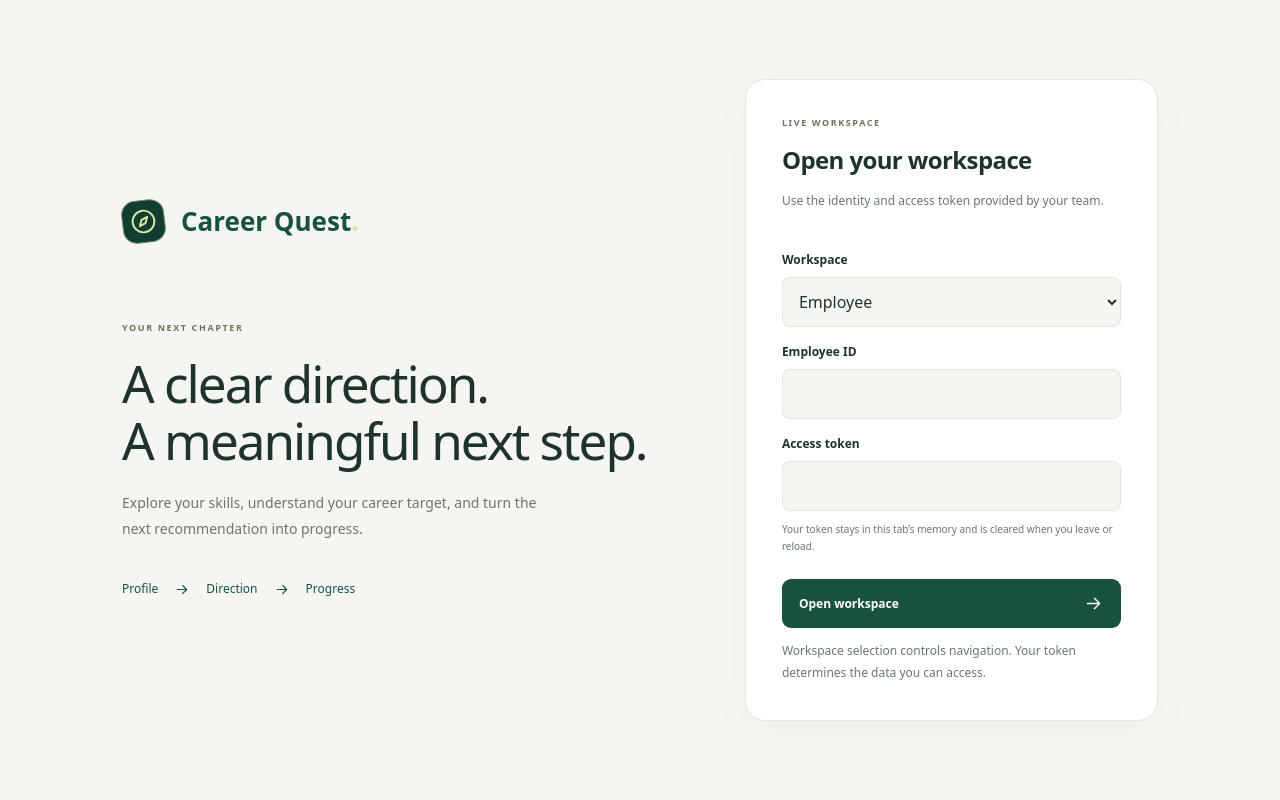
Test case: identity-aware navigation › reports invalid token input without requesting protected data
Type "jury-new-id" into the field labelled "Employee ID" at coordinates (951, 394), box [782,370,1121,420]
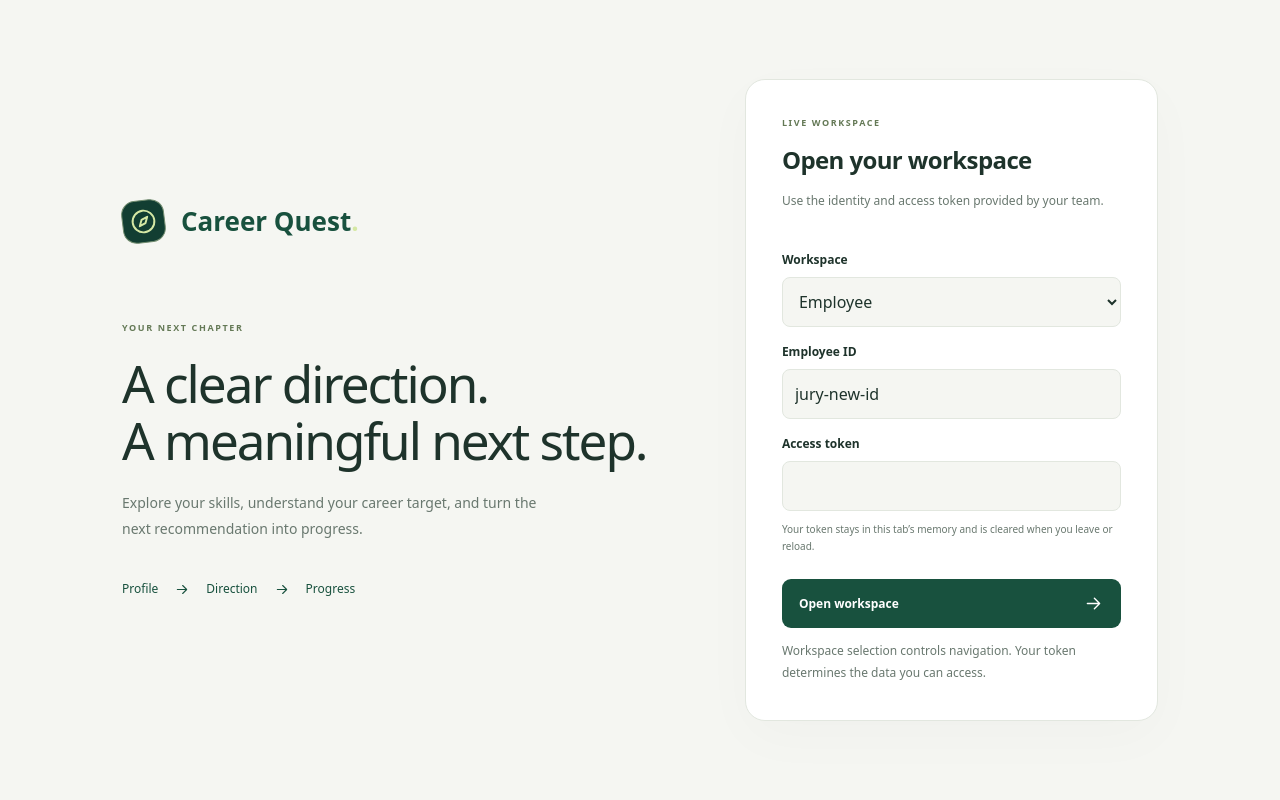
Type "invalid test token" into the password field labelled "Access token" at coordinates (951, 486), box [782,462,1121,512]
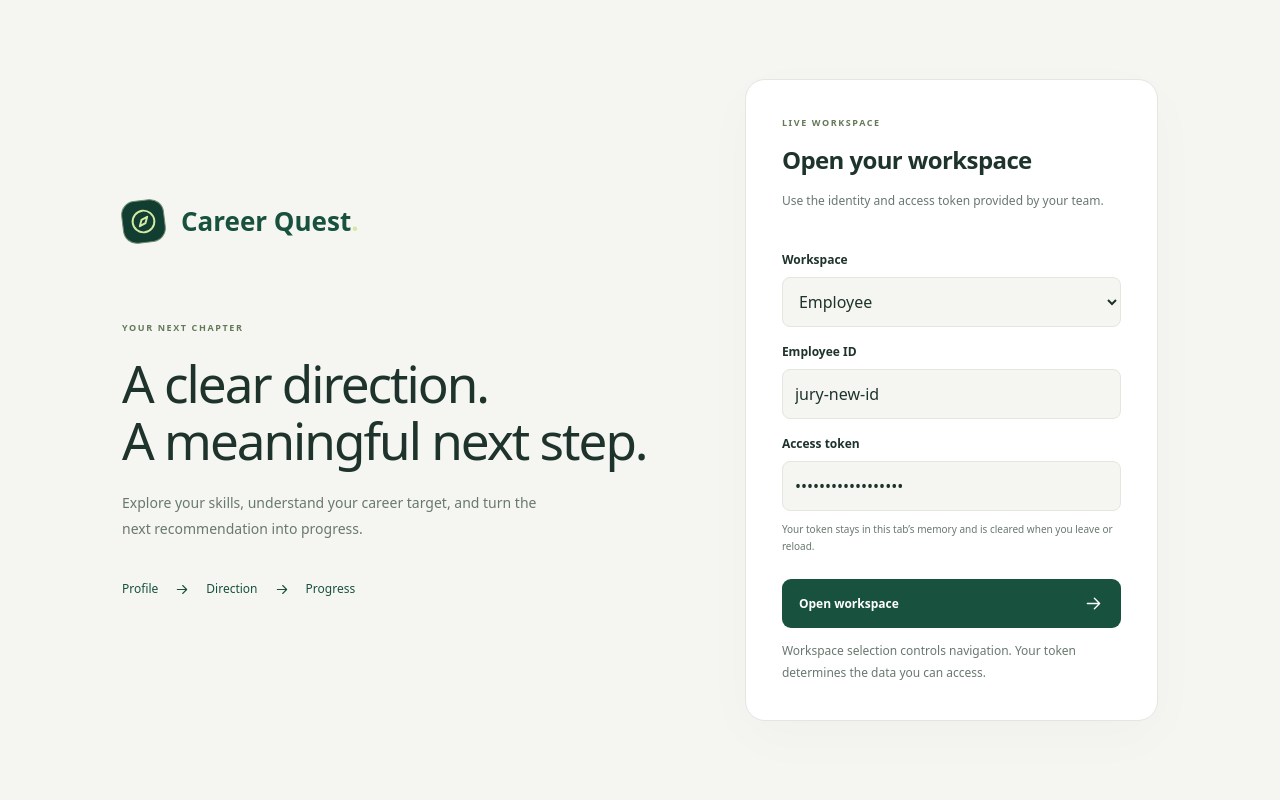
Click the button "Open workspace" at coordinates (849, 603), box [782,580,1121,628]
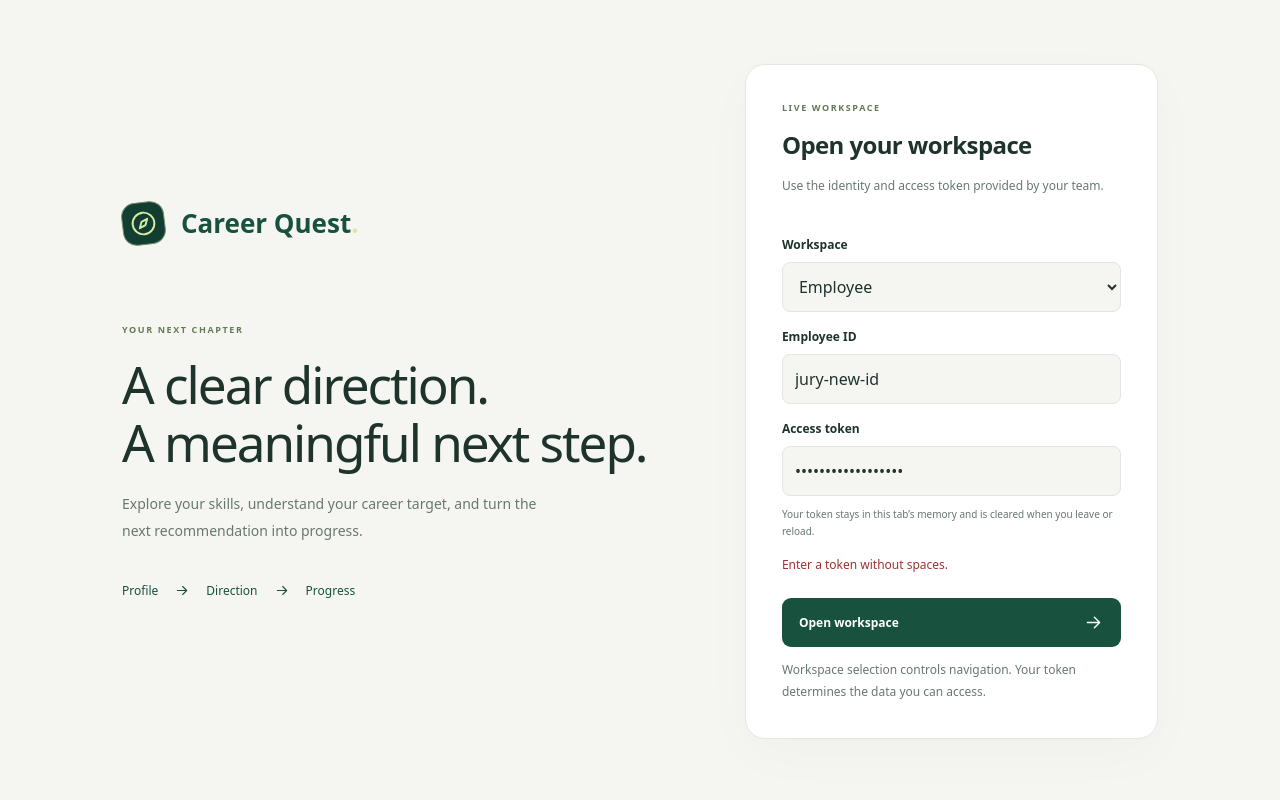
Expected: the message shows "token without spaces", [782,556,948,573]
